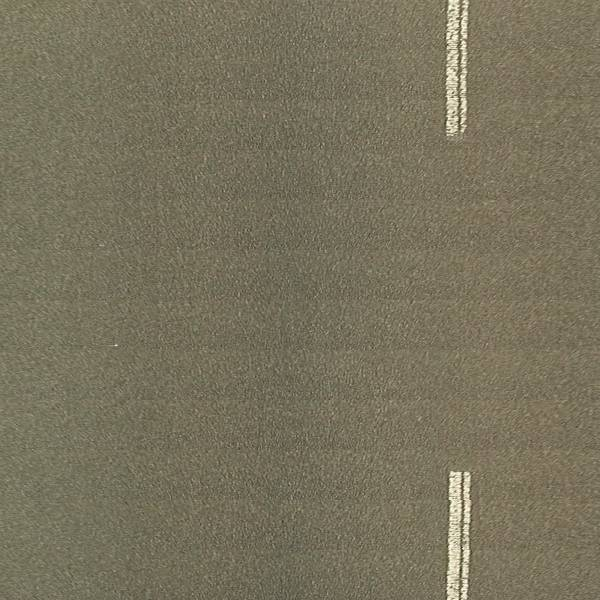road_damage: (454, 1, 465, 137)
